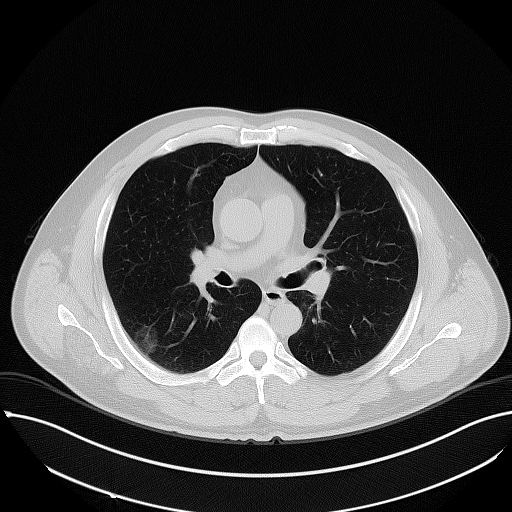nodule: (134, 325, 157, 354)
